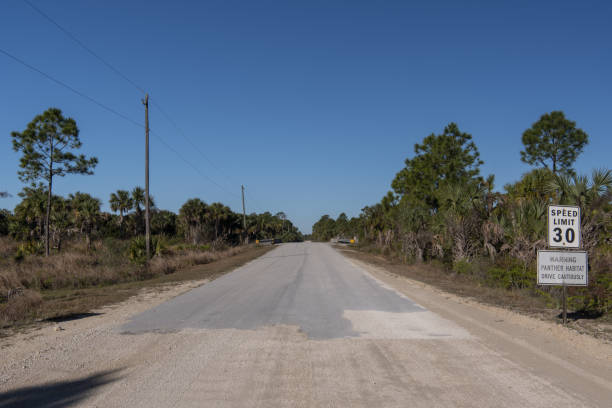SpeedLimitSign: (546, 202, 581, 248)
